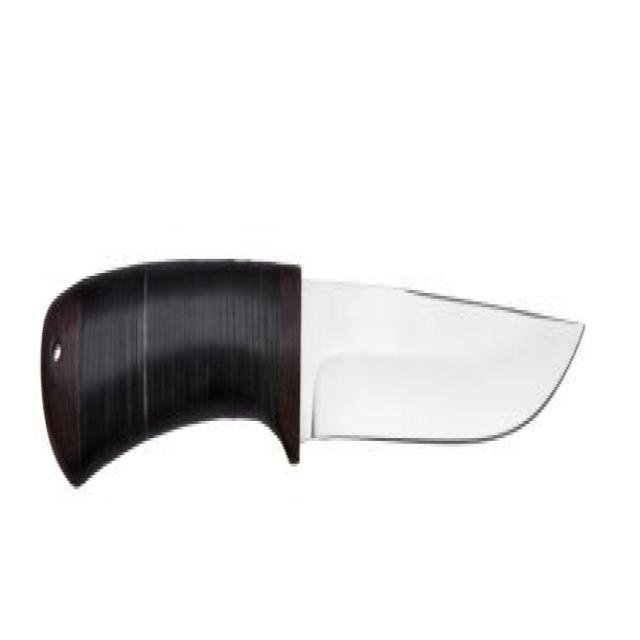knife: (41, 250, 589, 492)
